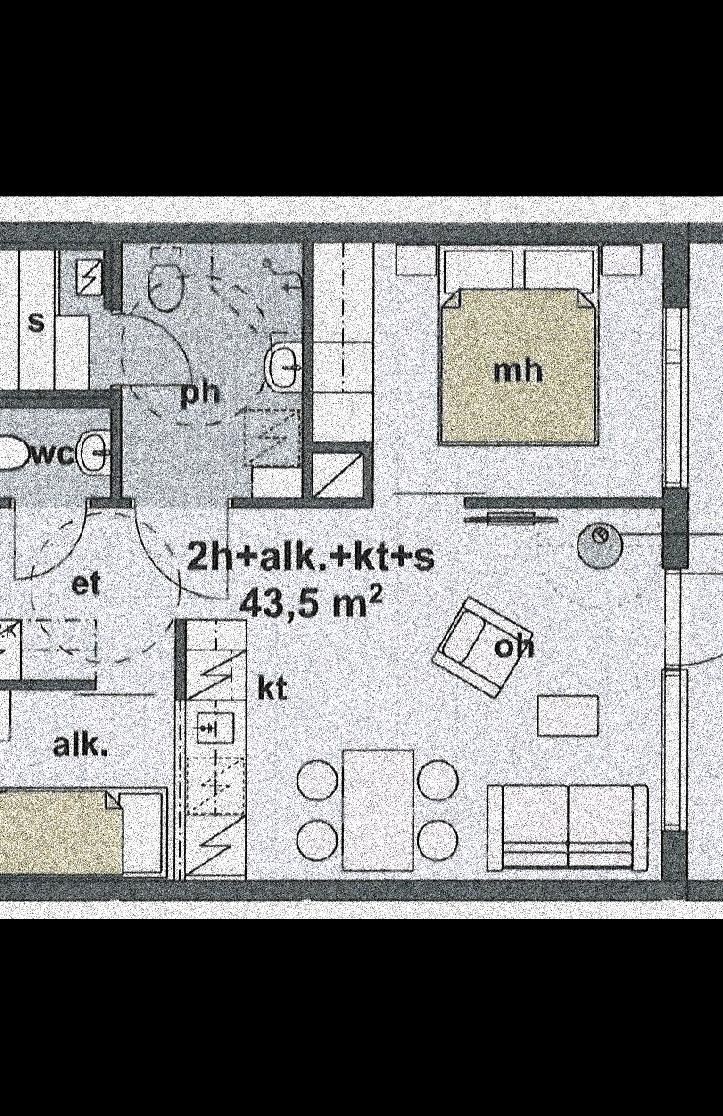door: (134, 496, 231, 610), (0, 492, 83, 587), (664, 573, 723, 663)
window: (648, 304, 696, 492), (658, 664, 684, 824)
zone: (0, 503, 669, 878), (0, 241, 306, 503), (376, 238, 664, 503), (0, 394, 114, 497)
